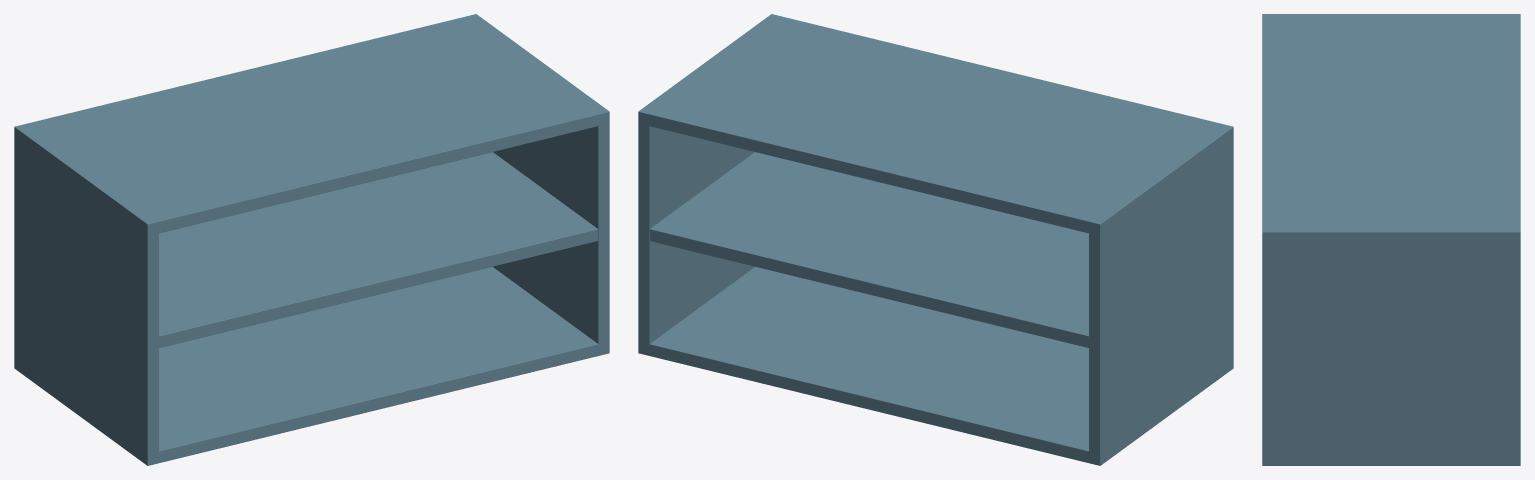
File: MOD-2X1-S-O-AC.glb
3 views of the same model, side by side, from view 1: azimuth 30°, elevation 25°; view 2: azimuth 150°, elevation 25°; view 3: azimuth 270°, elevation 25° (orthographic). The views are drawn at different scales.
Size of the model in its own units: 720 by 360 by 360.
